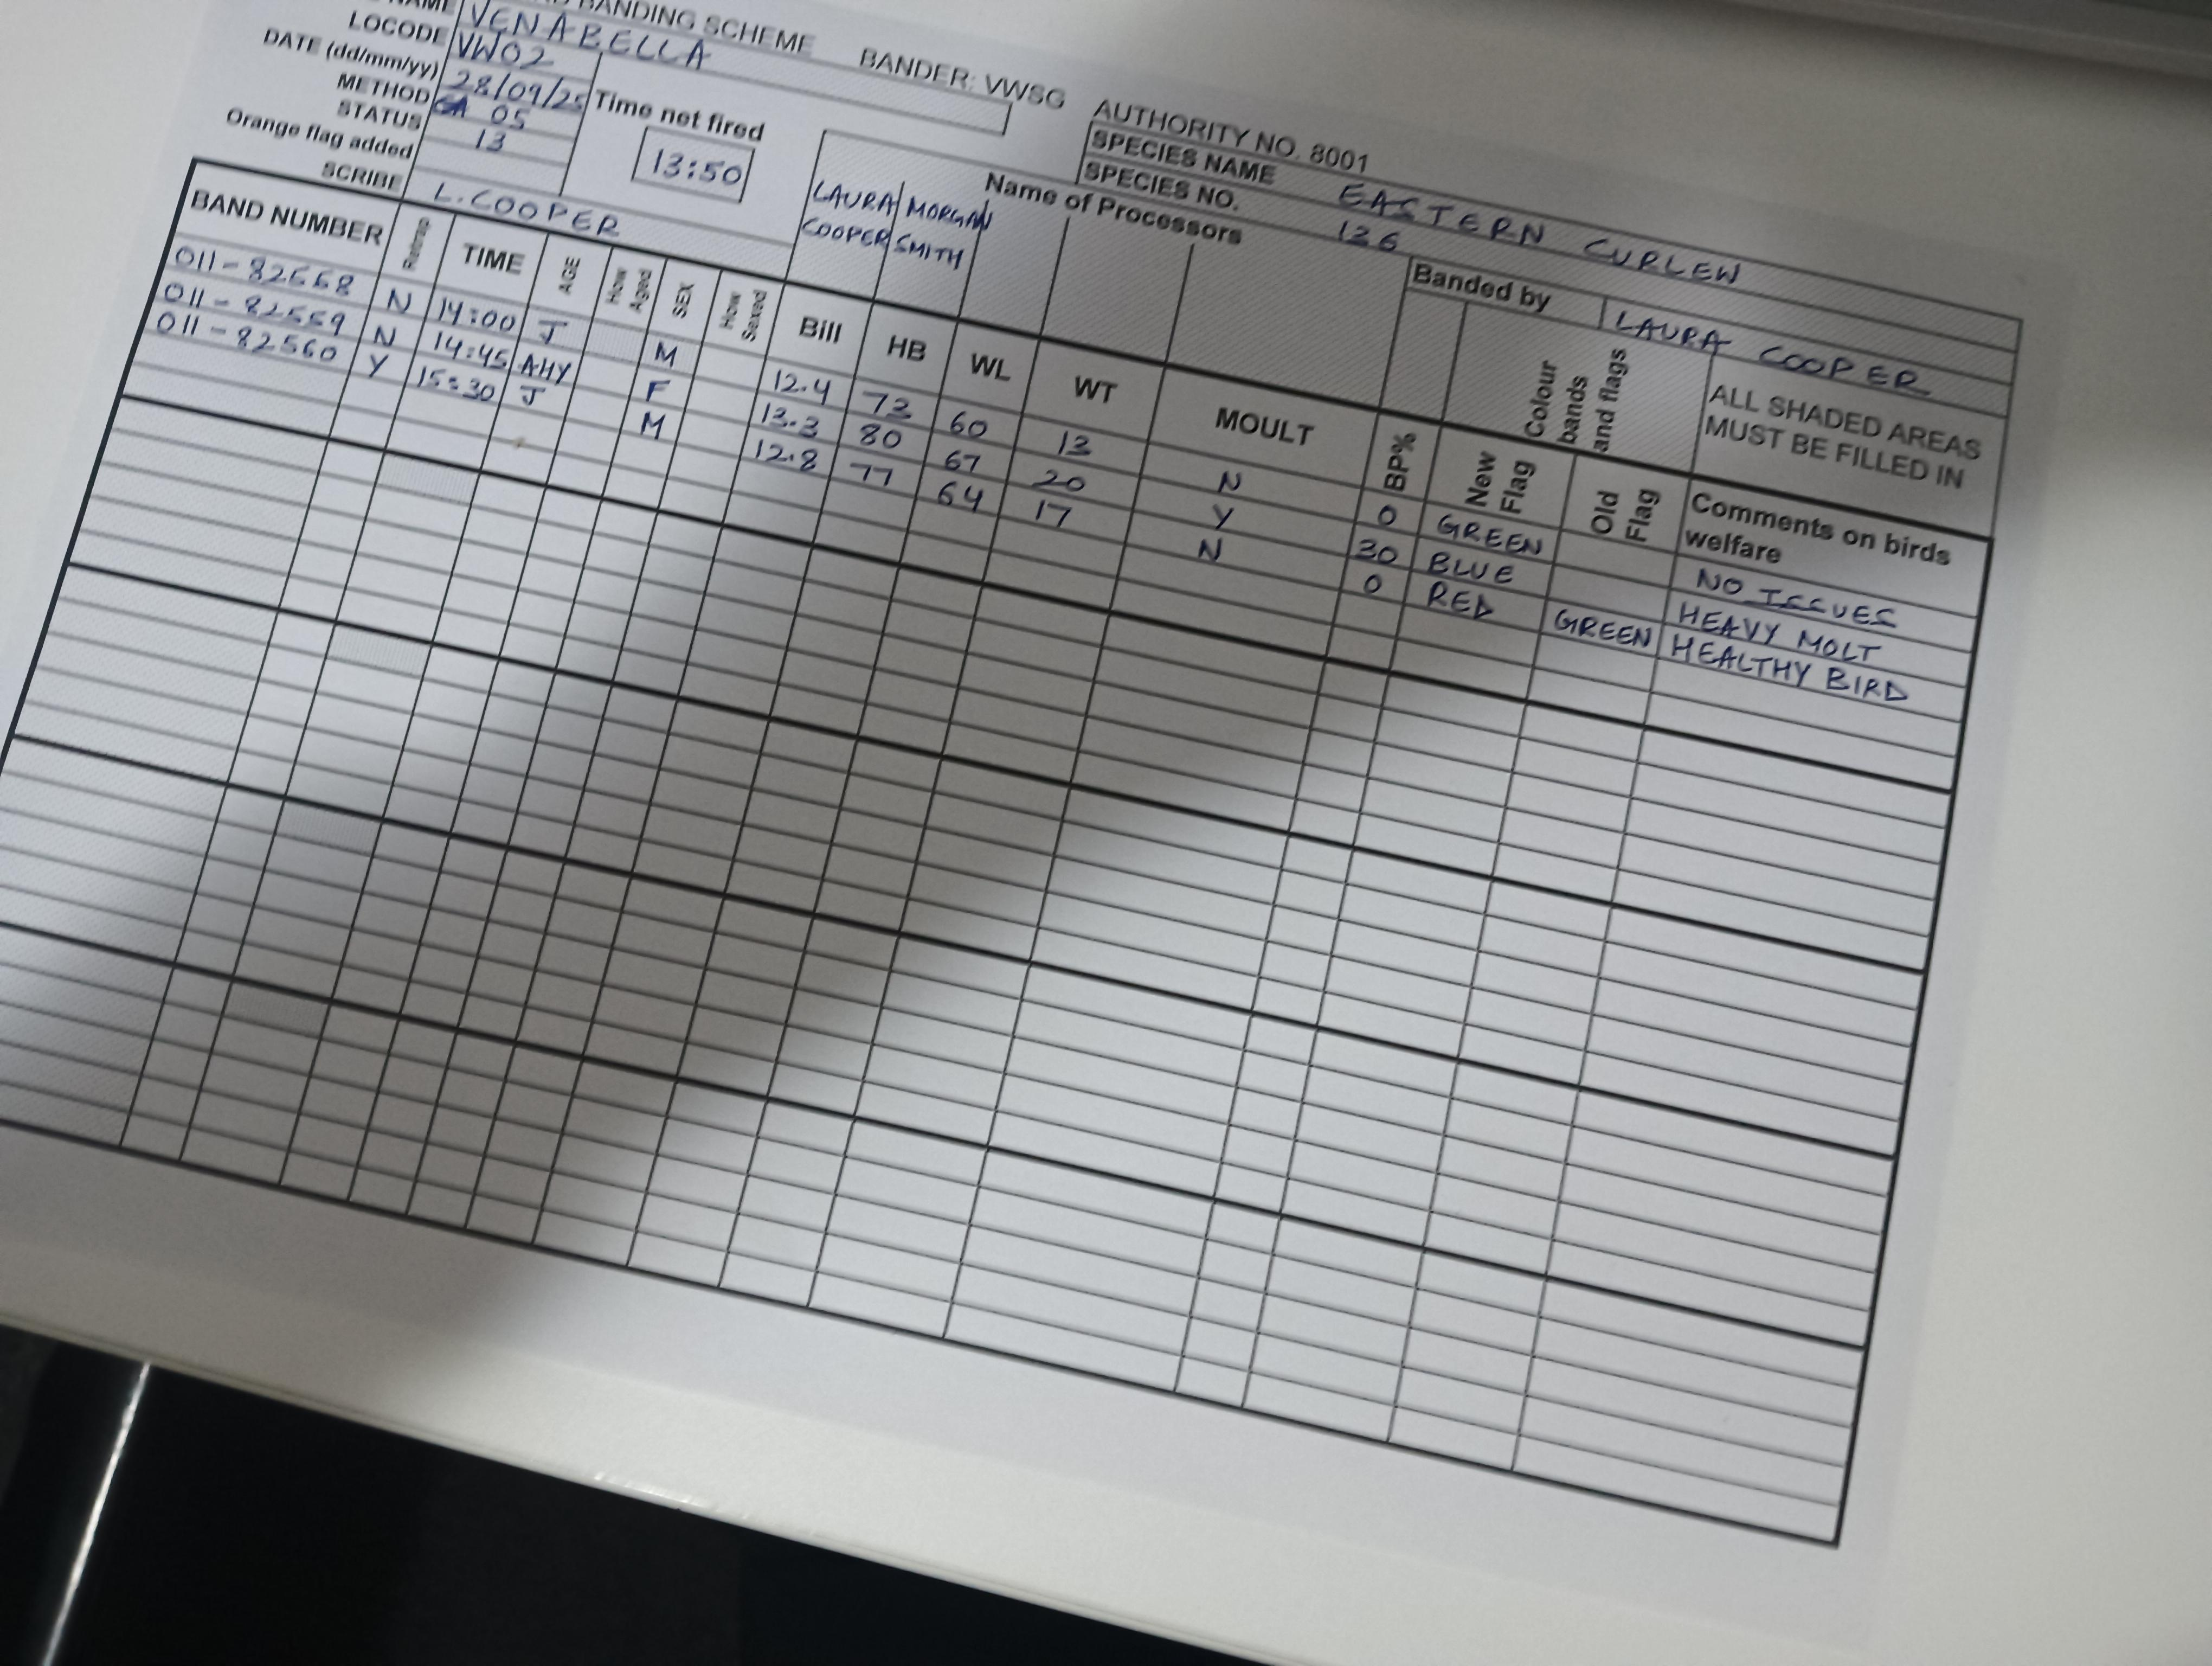BANDED_BY: (1402, 256, 2014, 422)
DATA: (154, 266, 1978, 693), (142, 297, 1967, 723), (159, 231, 1978, 651)
DATE: (247, 16, 605, 119)
LOCOCODE: (344, 2, 603, 82)
LOCOCODE_NAME: (470, 0, 1014, 135)
METHOD: (325, 65, 591, 144)
NAME_OF_PROCESSORS: (876, 180, 1009, 322), (780, 159, 909, 303)
ORANGE_FLAG_ADDED: (213, 103, 568, 196)
SCRIBE: (311, 150, 797, 280)
SPECIES_NAME: (1082, 124, 2025, 352)
SPECIES_NO: (1075, 154, 2018, 387)
STATUS: (316, 91, 579, 168)
TIME_NET_FIRED: (572, 73, 790, 222)
